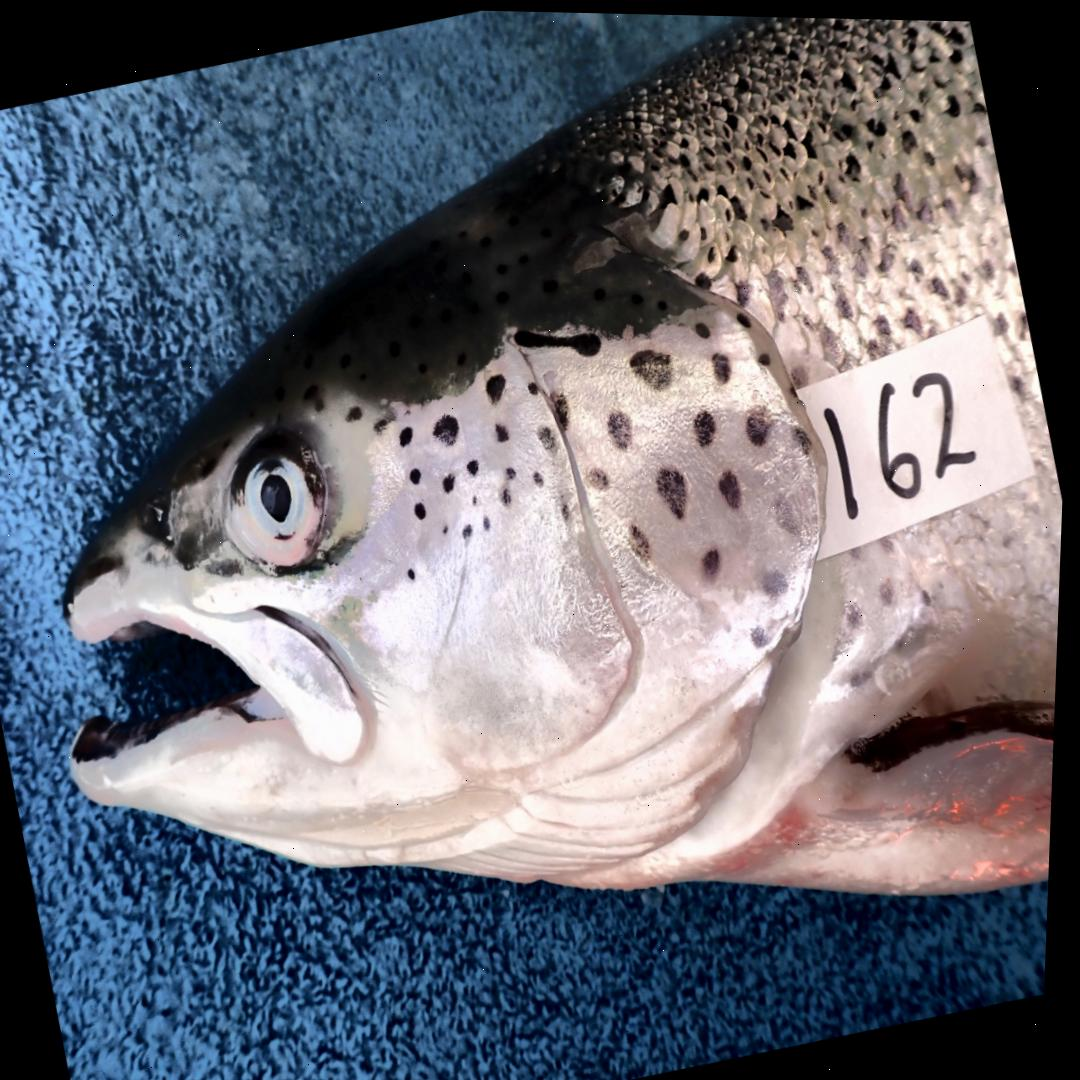spot: (515, 326, 604, 353), (632, 345, 676, 387), (659, 463, 692, 516), (777, 489, 808, 533), (610, 407, 635, 447), (748, 404, 774, 442), (722, 466, 746, 505), (436, 411, 462, 443), (633, 520, 655, 556), (697, 406, 719, 442), (766, 566, 793, 595), (553, 388, 573, 425), (714, 348, 734, 380), (488, 371, 509, 399), (796, 422, 815, 450), (706, 544, 725, 571), (591, 464, 613, 487), (755, 621, 774, 645), (541, 423, 559, 448), (402, 425, 416, 444), (498, 420, 511, 440), (697, 317, 712, 334), (446, 471, 459, 490), (739, 308, 753, 325), (412, 465, 425, 482), (760, 347, 774, 362), (418, 499, 430, 516), (505, 484, 515, 504), (469, 458, 482, 473), (564, 500, 573, 518), (466, 520, 476, 536), (536, 468, 547, 482), (474, 490, 483, 505), (530, 379, 541, 391), (485, 514, 494, 528), (411, 565, 420, 579), (509, 465, 519, 477), (446, 522, 453, 531)
